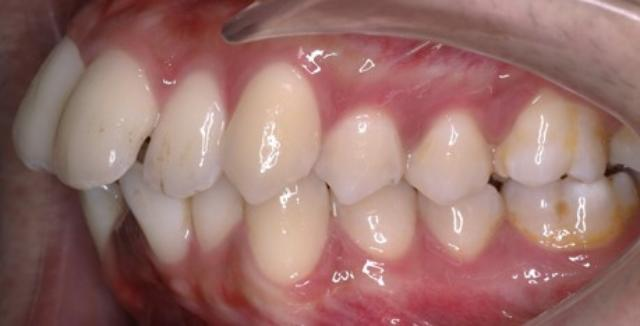canine class II 3/4: (223, 54, 419, 298)
molar class II 1/2: (494, 83, 638, 264)
